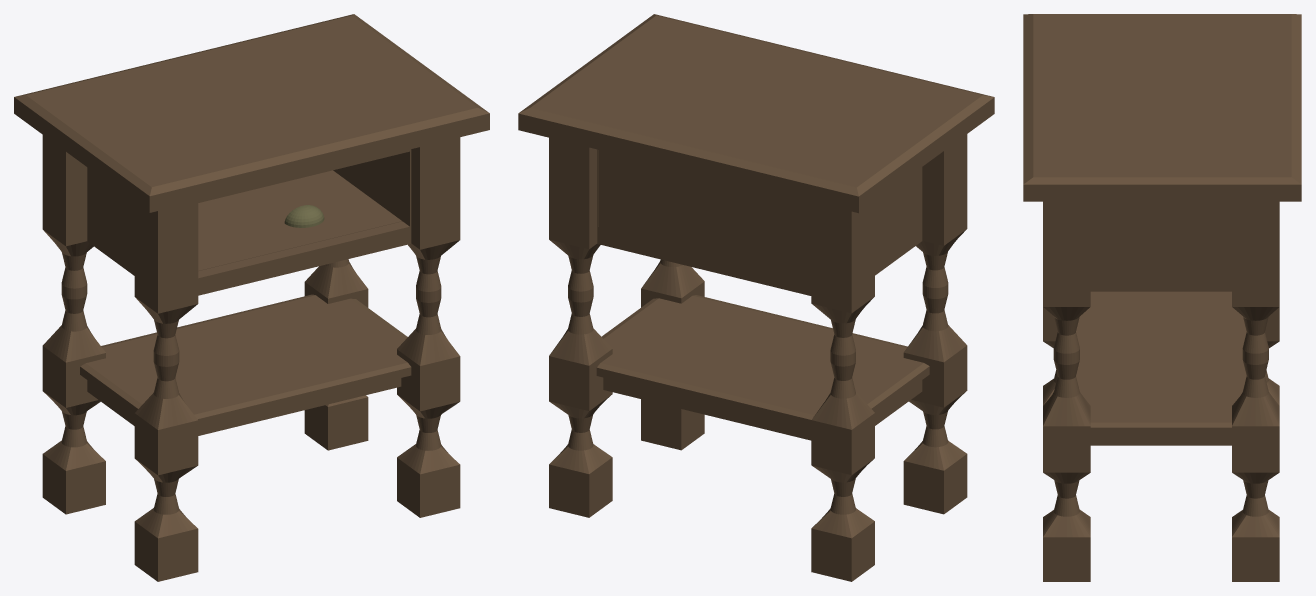
The model's file is bedside-table.fbx.
The picture shows the model from 3 angles, left to right: view 1: azimuth 30°, elevation 25°; view 2: azimuth 150°, elevation 25°; view 3: azimuth 270°, elevation 25°; orthographic projection. The views are drawn at different scales.
Parts seen in each view (by area): view 1: legs, top, drawer-handle; view 2: legs, top; view 3: top, legs.
Part boxes in pixels (bbox=[...]): legs: bbox=[42, 135, 460, 581]; top: bbox=[14, 14, 489, 295]; drawer-handle: bbox=[284, 205, 324, 227]; legs: bbox=[549, 134, 967, 581]; top: bbox=[518, 14, 994, 295]; top: bbox=[1023, 14, 1301, 291]; legs: bbox=[1043, 201, 1279, 581].
Size of what is drawn, in the model's own units: 463 by 521 by 320.
